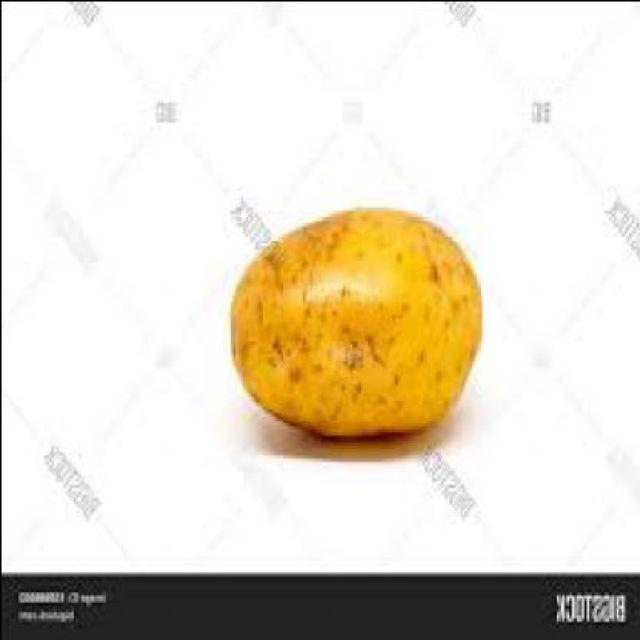BIODEGRADABLE: (230, 200, 485, 431)
